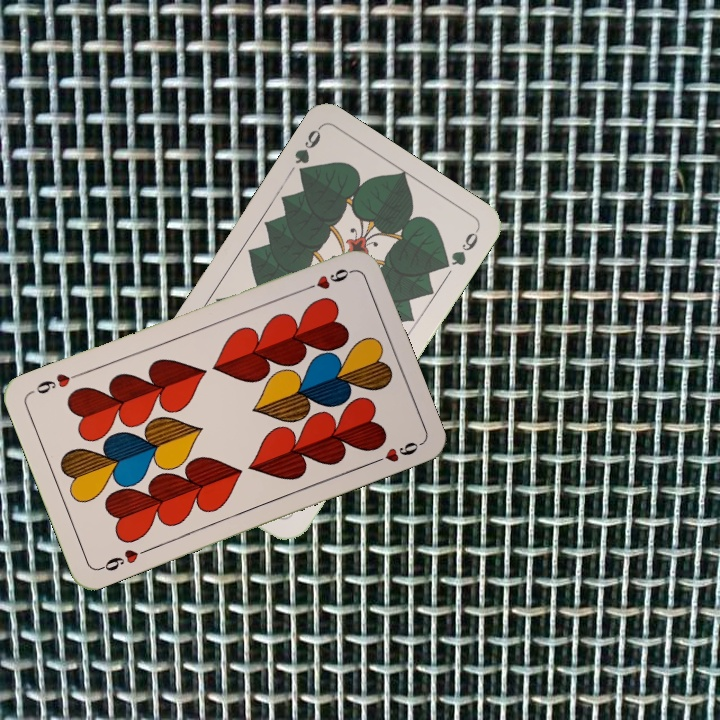G9: (290, 123, 324, 182)
H9: (298, 264, 355, 295), (95, 544, 152, 574)
